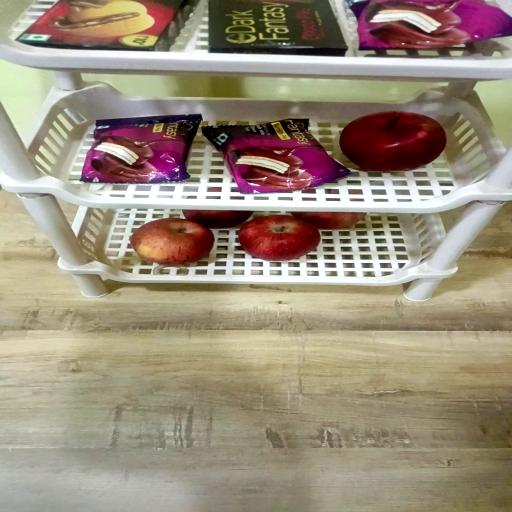Apple: (340, 110, 446, 171), (129, 220, 213, 267), (239, 216, 321, 263), (292, 211, 366, 229), (183, 210, 252, 228)
Choco Fills: (13, 0, 196, 51), (210, 0, 349, 56)
Choco Pie: (204, 122, 351, 196), (347, 0, 511, 52), (80, 112, 199, 182)
